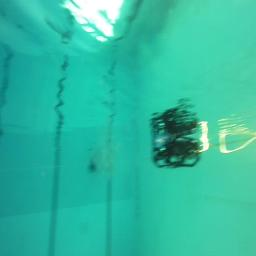front: (151, 135, 201, 168)
